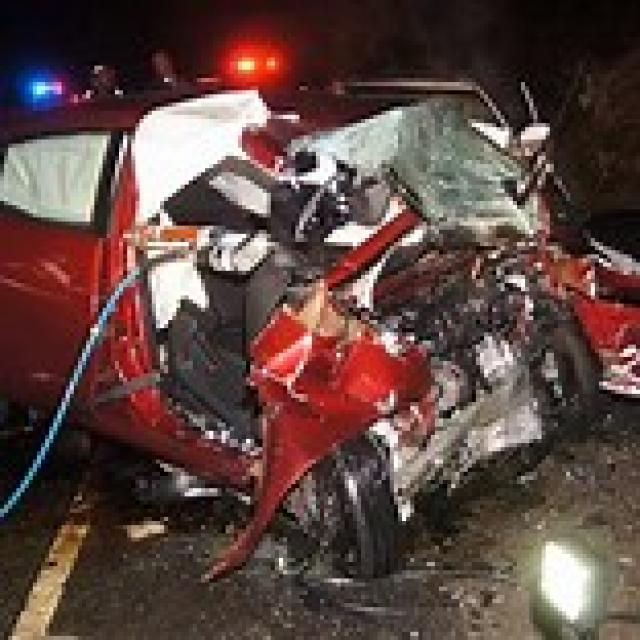Accident: (61, 36, 640, 459)
